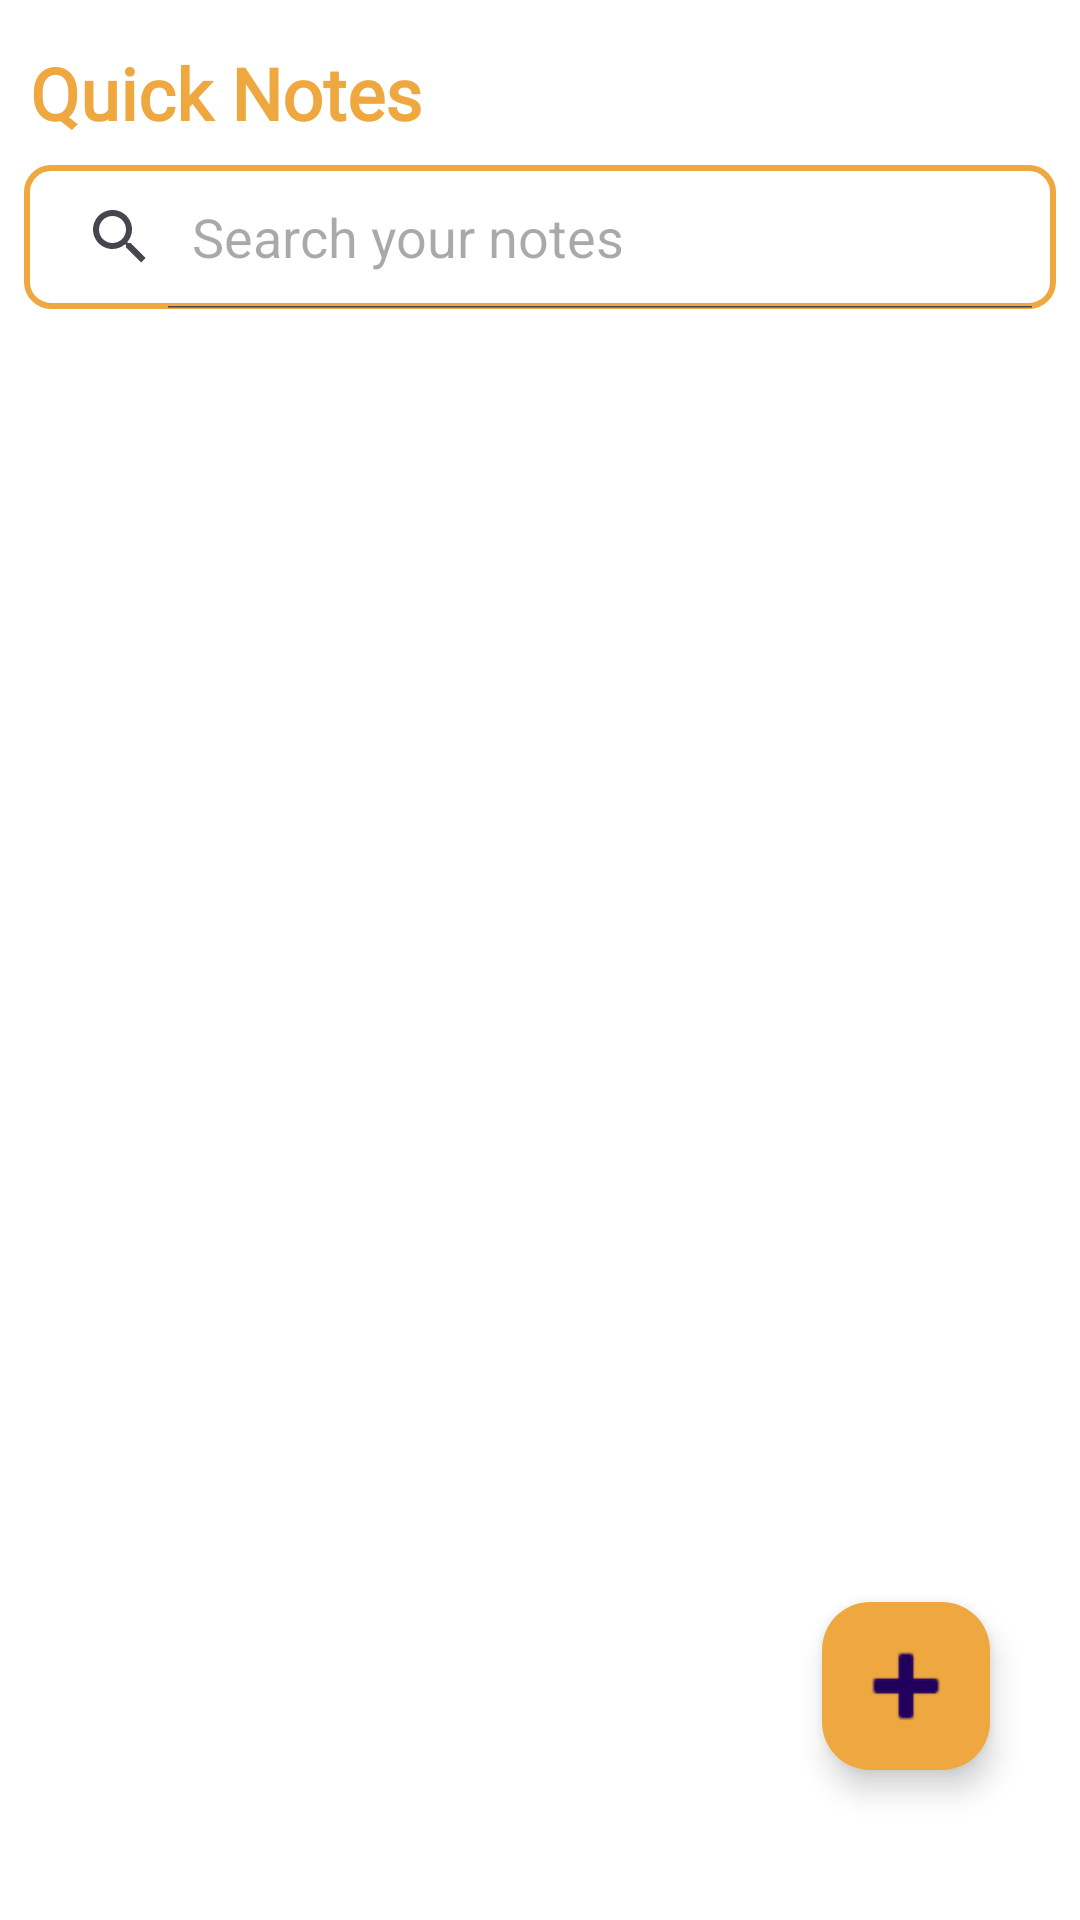

Named icons in this screenshot (1080 × 1920) and their bounding boxes, (x1, y1, x2, y2):
add: (822, 1602, 990, 1770)
